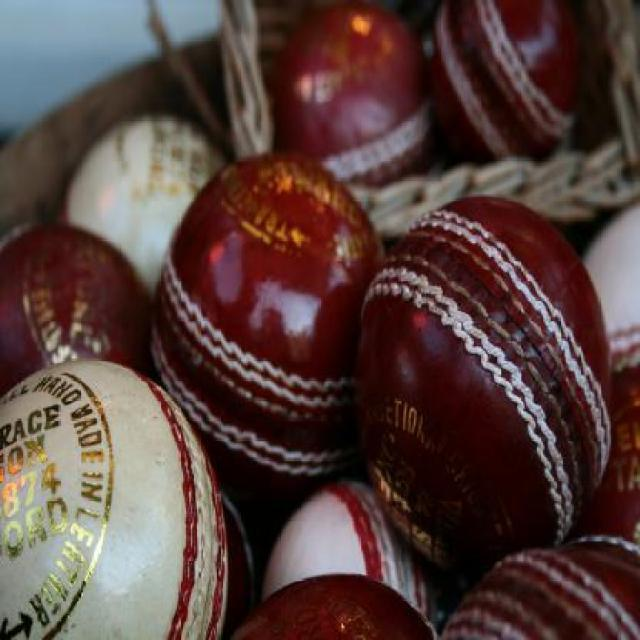-: (383, 213, 589, 472)
undefined: (140, 165, 354, 483)
